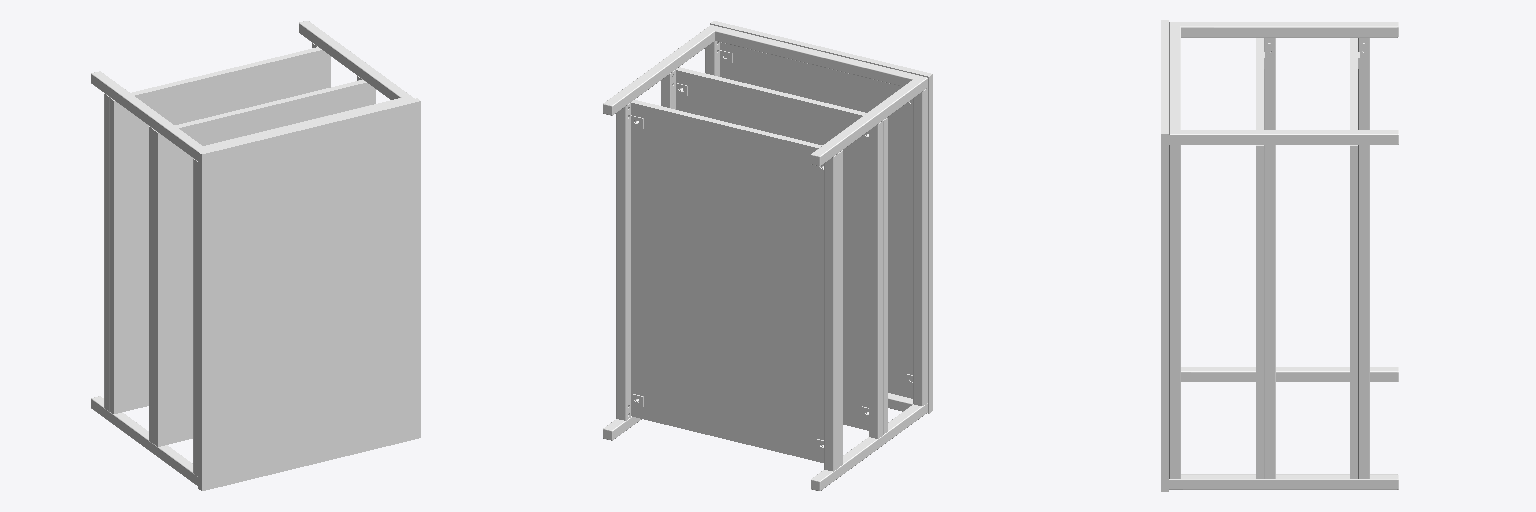
robot.urdf — coffee_table:
<robot
  name="coffee_table">
  <link
    name="coffee_table">
    <inertial>
      <origin
        xyz="-0 0 0"
        rpy="0 0 0" />
      <mass
        value="28.743" />
      <inertia
        ixx="187.967646036987"
        ixy="-8.68077767090581"
        ixz="-7.87552904811458"
        iyy="491.860976418071"
        iyz="-3.23664862977446"
        izz="639.528790115555" />
    </inertial>
    <visual>
      <origin
        xyz="0 0 0"
        rpy="1.5707963267949 0 0" />
      <geometry>
        <mesh
          filename="package://coffee_table/meshes/coffee_table.dae" />
      </geometry>
      <material
        name="">
        <color
          rgba="1 1 1 1" />
      </material>
    </visual>
    <collision>
      <origin
        xyz="0 0 0"
        rpy="1.5707963267949 0 0" />
      <geometry>
        <mesh
          filename="package://coffee_table/meshes/coffee_table.dae" />
      </geometry>
    </collision>
  </link>
</robot>

--- Facts derived from the render (not from the file) ---
3 views of the same robot in one strip: view 1: azimuth 30°, elevation 25°; view 2: azimuth 150°, elevation 25°; view 3: azimuth 270°, elevation 25° (orthographic).
Model coffee_table with 1 links and 0 joints (none), rooted at coffee_table, posed every joint at zero.
Visible links, largest first — view 1: coffee_table; view 2: coffee_table; view 3: coffee_table.
Boxes of the visible links, box(x1,y1,x2,y2) form: coffee_table: box(91, 21, 420, 490); coffee_table: box(603, 21, 932, 490); coffee_table: box(1161, 20, 1398, 491).
Size in the robot's own frame: 0.554 by 0.491 by 0.814 metres.
Meshes: 1 distinct files referenced, 1 mesh visuals loaded (1 Collada DAE).